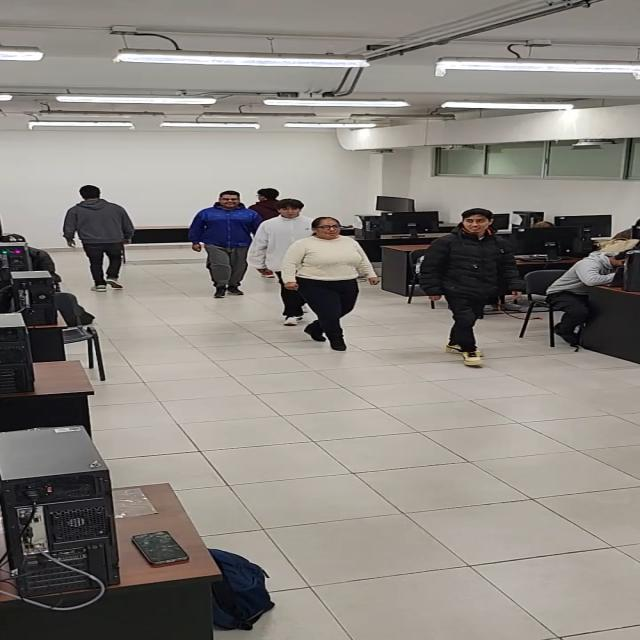Persona: (432, 208, 514, 354), (292, 216, 369, 349), (65, 185, 131, 292), (198, 189, 250, 297), (261, 198, 312, 263), (255, 187, 282, 215)
